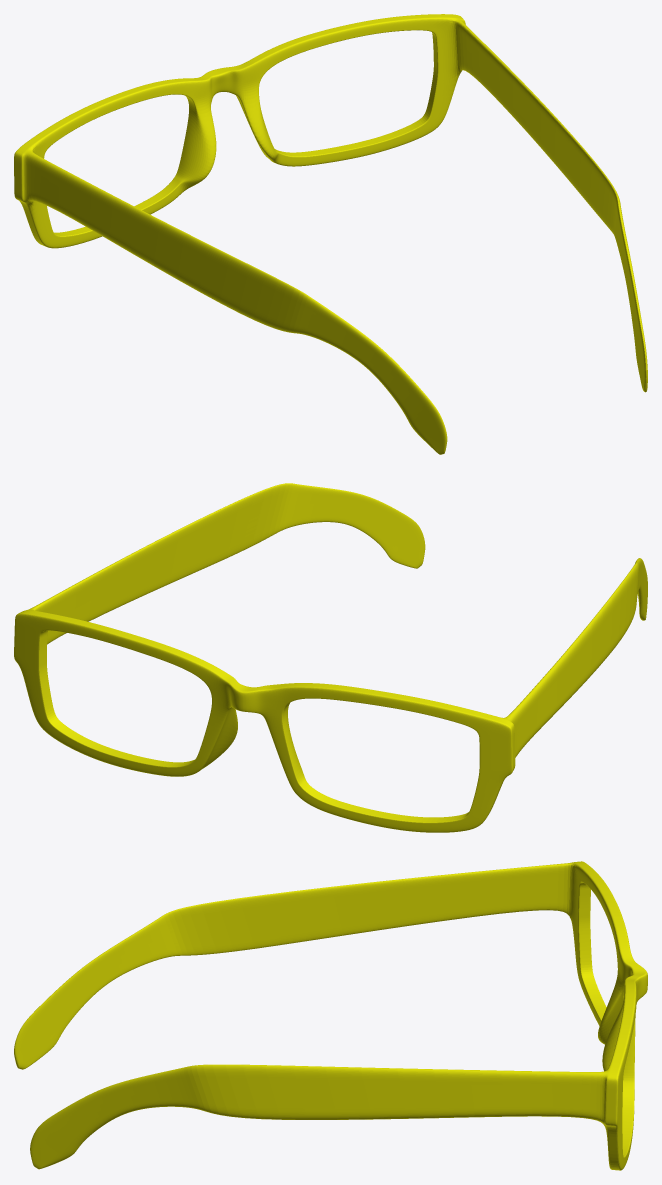
The picture shows the model from 3 angles, top to bottom: view 1: azimuth 30°, elevation 25°; view 2: azimuth 150°, elevation 25°; view 3: azimuth 270°, elevation 25°; orthographic projection. The views are drawn at different scales.
Visible parts, largest first — view 1: Glasses:glassesframeHyperNURBSCube4Cube; view 2: Glasses:glassesframeHyperNURBSCube4Cube; view 3: Glasses:glassesframeHyperNURBSCube4Cube.
Boxes of the visible parts, box(x1,y1,x2,y2) form: Glasses:glassesframeHyperNURBSCube4Cube: box(14, 14, 647, 454); Glasses:glassesframeHyperNURBSCube4Cube: box(14, 483, 647, 832); Glasses:glassesframeHyperNURBSCube4Cube: box(14, 861, 647, 1170).
Size of the model in its own units: 17.46 by 5.58 by 20.37.
